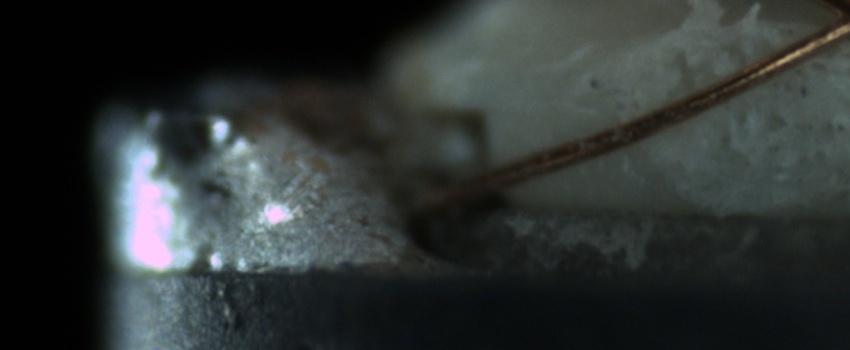CL: (807, 1, 850, 46)
